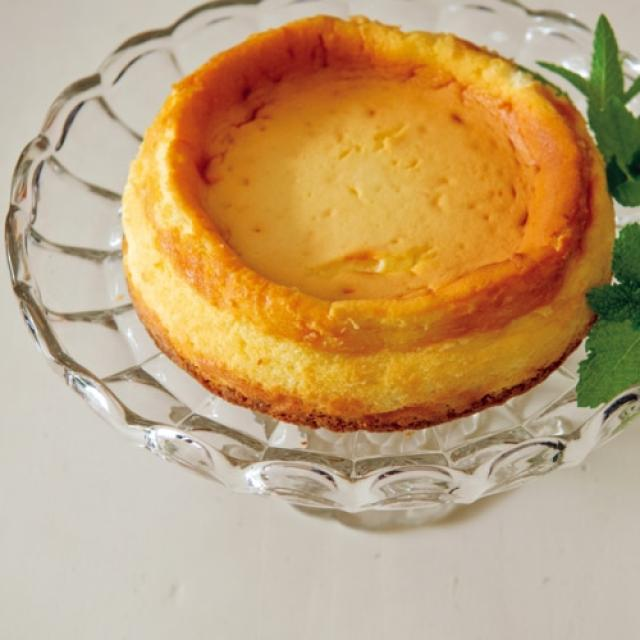cheesecake: (118, 12, 614, 432)
